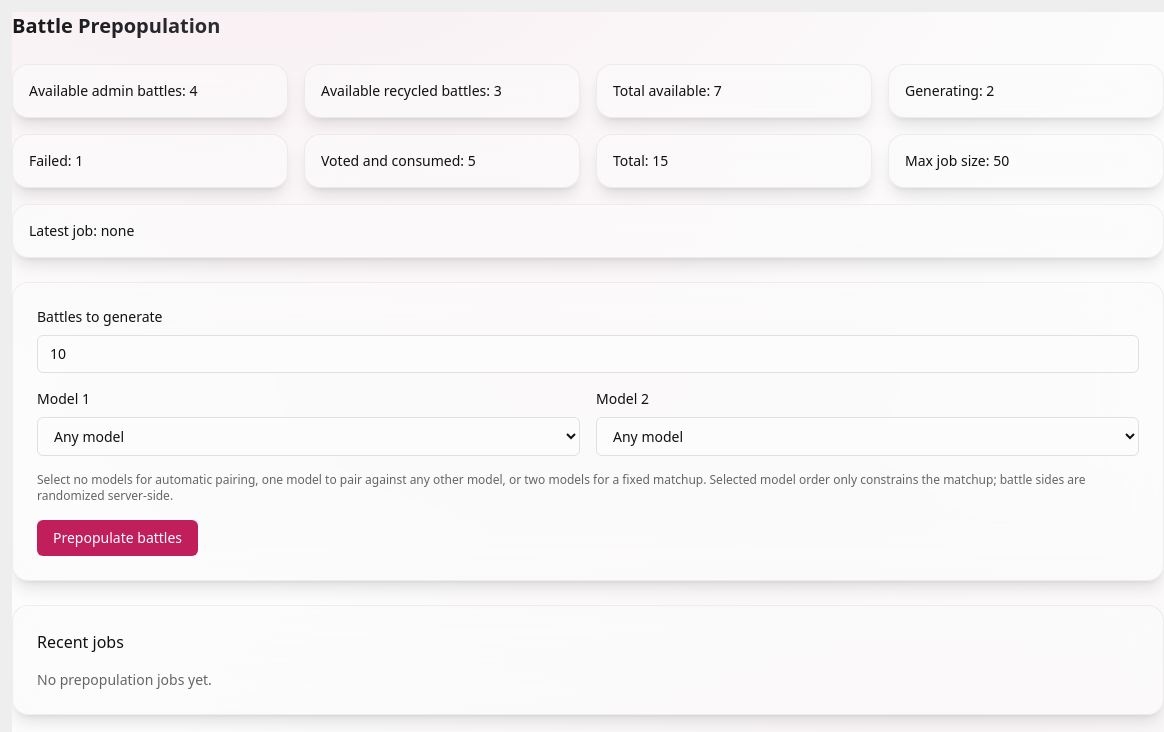
AdminBattlePrepopulationRoute › rejects invalid amount -1 before submit
Expected: the text "Total available: 7" is shown, [613,81,722,100]
Replace the text in the number field labelled "Battles to generate" with "-1". click: [588, 354]
box: [37,335,1139,373]
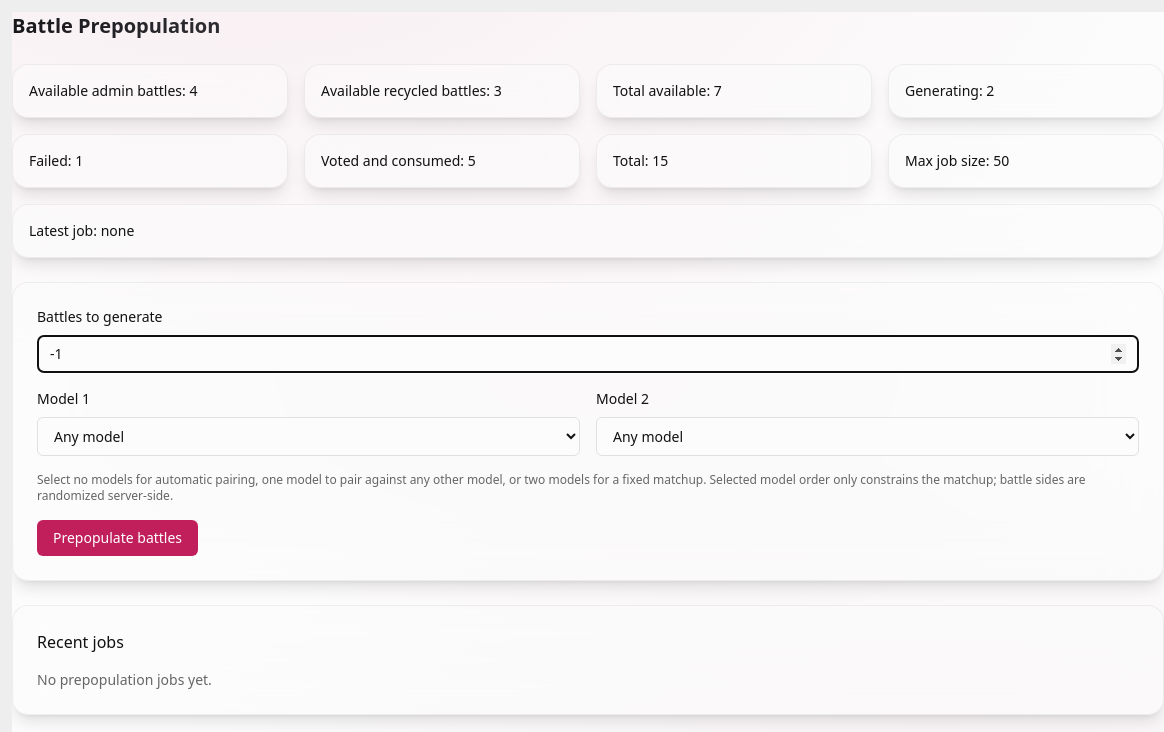
Click the button "Prepopulate battles". click: [118, 538]
box: [37,520,198,556]
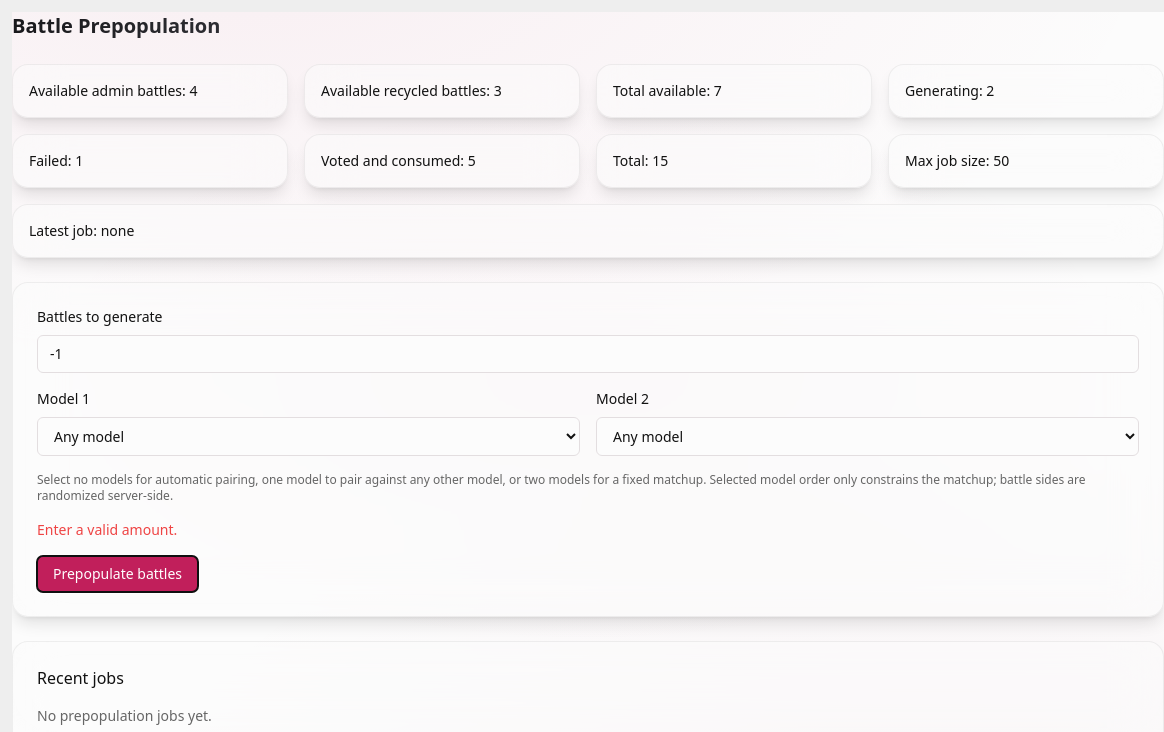
Now the text "Enter a valid amount." is shown, box [37,520,177,539]
